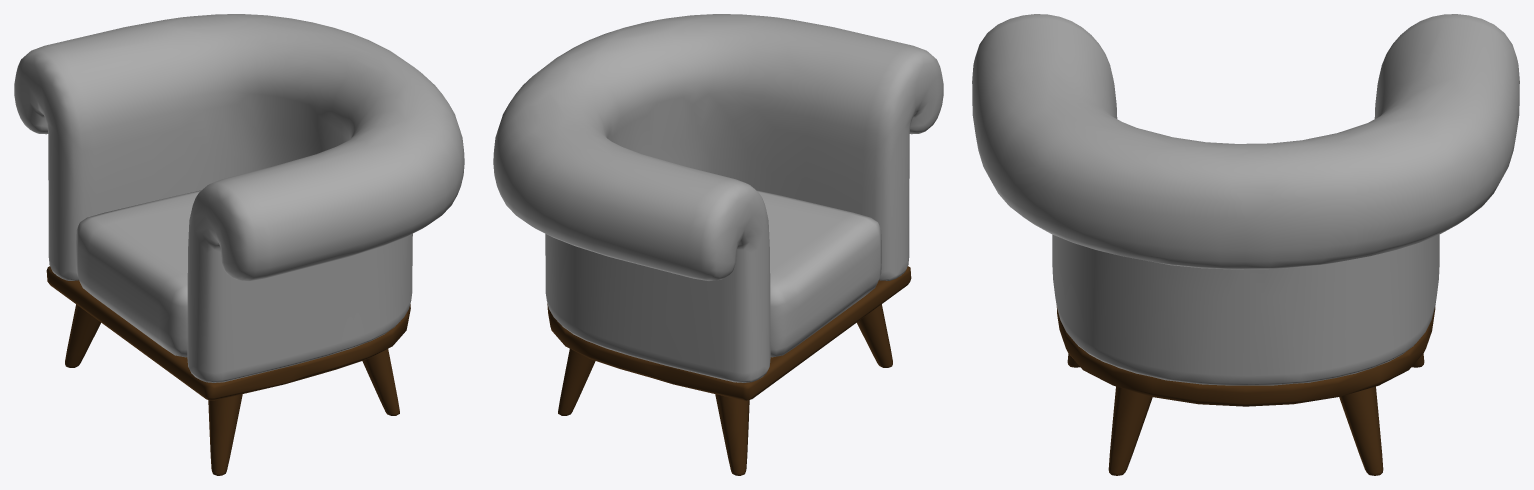
File: armchair_09_gray.fbx
The picture shows the model from 3 angles, left to right: view 1: azimuth 30°, elevation 25°; view 2: azimuth 150°, elevation 25°; view 3: azimuth 270°, elevation 25°; orthographic projection. The views are drawn at different scales.
Visible parts, largest first — view 1: armchair_09_gray; view 2: armchair_09_gray; view 3: armchair_09_gray.
Part boxes in pixels (x1,y1,x2,y2): armchair_09_gray: (14, 14, 464, 475); armchair_09_gray: (493, 14, 943, 475); armchair_09_gray: (972, 14, 1519, 475).
Bounding box in the file's own units: 106 × 102 × 145.
2 materials, 2 textured.
